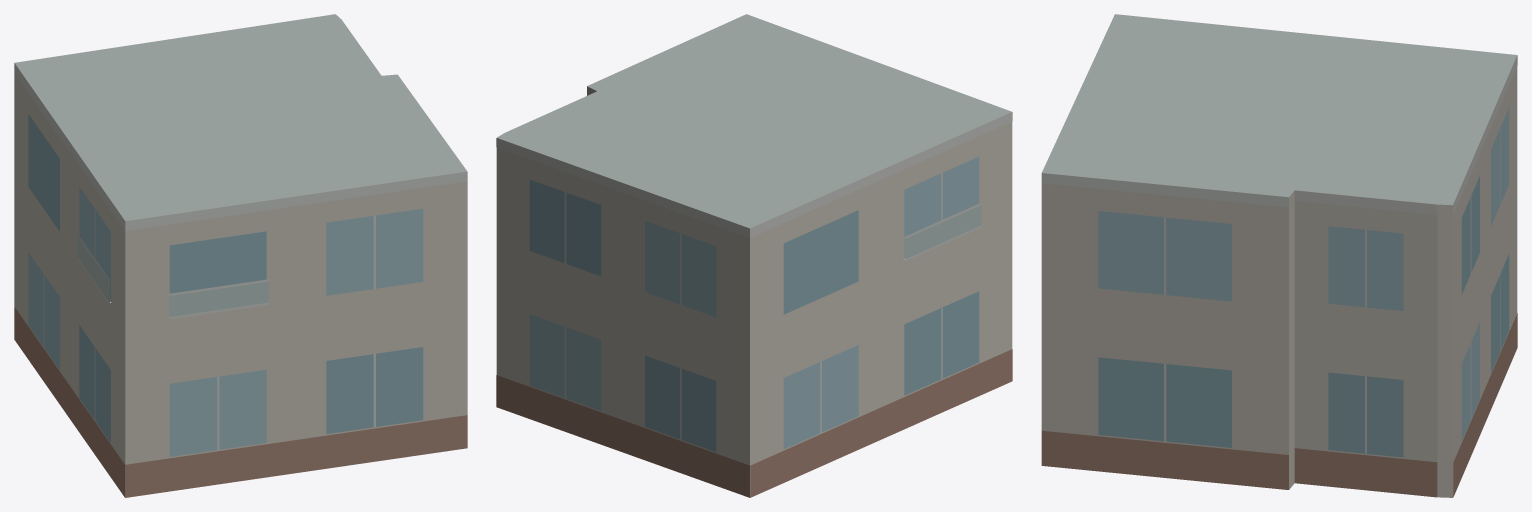
Rendered from survey-upis-32515104.glb.
3 renders of one model, left to right at view 1: azimuth 30°, elevation 25°; view 2: azimuth 150°, elevation 25°; view 3: azimuth 270°, elevation 25°, orthographic. The views are drawn at different scales.
Parts seen in each view (by area): view 1: survey-upis-32515104.tmp; view 2: survey-upis-32515104.tmp; view 3: survey-upis-32515104.tmp.
Part boxes in pixels (x1,y1,x2,y2): survey-upis-32515104.tmp: (14, 14, 467, 497); survey-upis-32515104.tmp: (496, 14, 1012, 497); survey-upis-32515104.tmp: (1041, 14, 1517, 497).
Bounding box in the file's own units: 9.67 × 6.9 × 10.17.
